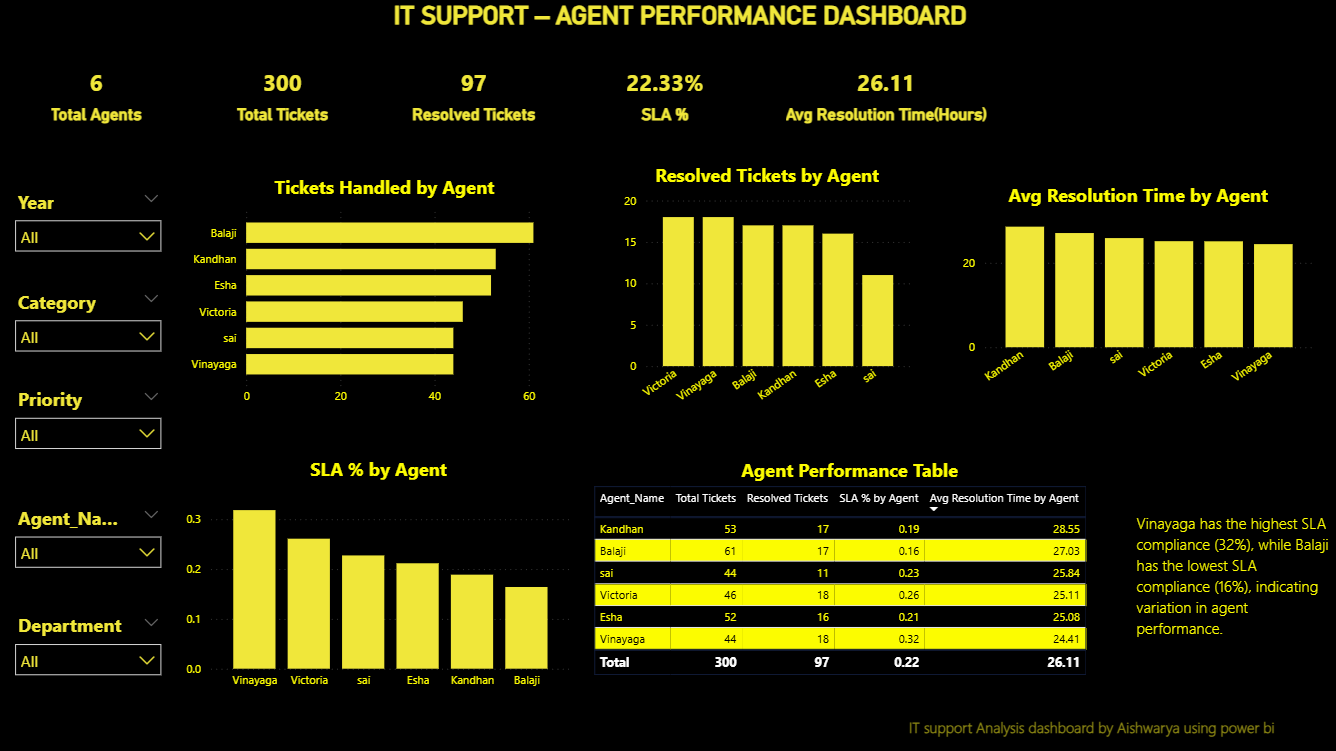

The page's visual inventory and layout, read from the dashboard file:
{"tool":"powerbi","page":{"name":"Agent Performance Dashboard","canvas":[1280,720],"ordinal":2},"visuals":[{"type":"textbox","box":[0,0,1280.3,43.9],"z":0},{"type":"cardVisual","fields":{"Data":["Dim_Agent.Total Agents"]},"box":[0,43.9,193.5,102.9],"z":1000},{"type":"cardVisual","fields":{"Data":["Dim_Agent.Total Tickets"]},"box":[177,43.9,193.5,102.9],"z":2000},{"type":"cardVisual","fields":{"Data":["Dim_Agent.Resolved Tickets"]},"box":[359.5,43.9,193.5,102.9],"z":3000},{"type":"cardVisual","fields":{"Data":["Dim_Agent.SLA %"]},"box":[542,43.9,193.5,102.9],"z":4000},{"type":"cardVisual","fields":{"Data":["Dim_Agent.Avg Resolution Time(Hours)"]},"box":[725.9,43.9,245.6,102.9],"z":5000},{"type":"slicer","fields":{"Values":["Dim_Date.Year"]},"box":[0,171.5,177,79.6],"z":6000},{"type":"slicer","fields":{"Values":["Fact_Tickets.Category"]},"box":[0,266.2,177,79.6],"z":7000},{"type":"slicer","fields":{"Values":["Fact_Tickets.Priority"]},"box":[0,359.5,177,79.6],"z":8000},{"type":"slicer","fields":{"Values":["Fact_Tickets.Agent_Name"]},"box":[0,472,177,75.5],"z":9000},{"type":"slicer","fields":{"Values":["Dim_Department.Department"]},"box":[0,575,177,75.5],"z":10000},{"type":"clusteredBarChart","title":"Tickets Handled by Agent","fields":{"Y":["Dim_Agent.Total Tickets"],"Category":["Dim_Agent.Agent_Name"]},"box":[177,171.5,387,227.8],"z":11000},{"type":"clusteredColumnChart","title":"Resolved Tickets by Agent","fields":{"Y":["Dim_Agent.Resolved Tickets"],"Category":["Dim_Agent.Agent_Name"]},"box":[594.2,159.2,282.7,240.1],"z":12000},{"type":"textbox","box":[865.9,683.4,395.2,37],"z":13000},{"type":"clusteredColumnChart","title":"SLA % by Agent ","fields":{"Y":["Dim_Agent.SLA % by Agent"],"Category":["Dim_Agent.Agent_Name"]},"box":[177,439.1,376,230.5],"z":14000},{"type":"clusteredColumnChart","title":"Avg Resolution Time by Agent ","fields":{"Category":["Dim_Agent.Agent_Name"],"Y":["Dim_Agent.Avg Resolution Time by Agent"]},"box":[916.6,178.4,344.4,203.1],"z":15000},{"type":"tableEx","title":"Agent Performance Table","fields":{"Values":["Dim_Agent.Agent_Name","Dim_Agent.Total Tickets","Dim_Agent.Resolved Tickets","Dim_Agent.SLA % by Agent","Dim_Agent.Avg Resolution Time by Agent"]},"box":[564,440.5,499.5,214.1],"z":16000},{"type":"textbox","box":[1082.7,488.5,197.6,172.9],"z":17000}]}

Visuals, with their boxes in screenshot pixels (x1, y1, x2, y2), scaled from the page's 1280x720 canvas onto the 1336x751 screenshot:
textbox: l=0, t=0, r=1335, b=46
cardVisual - Dim_Agent.Total Agents: l=0, t=46, r=202, b=153
cardVisual - Dim_Agent.Total Tickets: l=185, t=46, r=387, b=153
cardVisual - Dim_Agent.Resolved Tickets: l=375, t=46, r=577, b=153
cardVisual - Dim_Agent.SLA %: l=566, t=46, r=768, b=153
cardVisual - Dim_Agent.Avg Resolution Time(Hours): l=758, t=46, r=1014, b=153
slicer - Dim_Date.Year: l=0, t=179, r=185, b=262
slicer - Fact_Tickets.Category: l=0, t=278, r=185, b=361
slicer - Fact_Tickets.Priority: l=0, t=375, r=185, b=458
slicer - Fact_Tickets.Agent_Name: l=0, t=492, r=185, b=571
slicer - Dim_Department.Department: l=0, t=600, r=185, b=679
"Tickets Handled by Agent" clusteredBarChart: l=185, t=179, r=589, b=416
"Resolved Tickets by Agent" clusteredColumnChart: l=620, t=166, r=915, b=416
textbox: l=904, t=713, r=1316, b=750
"SLA % by Agent " clusteredColumnChart: l=185, t=458, r=577, b=698
"Avg Resolution Time by Agent " clusteredColumnChart: l=957, t=186, r=1316, b=398
"Agent Performance Table" tableEx: l=589, t=459, r=1110, b=683
textbox: l=1130, t=510, r=1335, b=690
